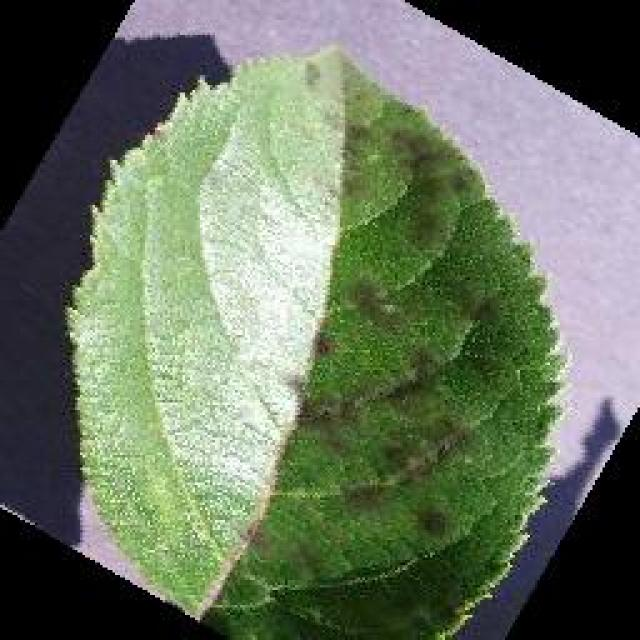apple scab disease: (62, 40, 568, 638)
